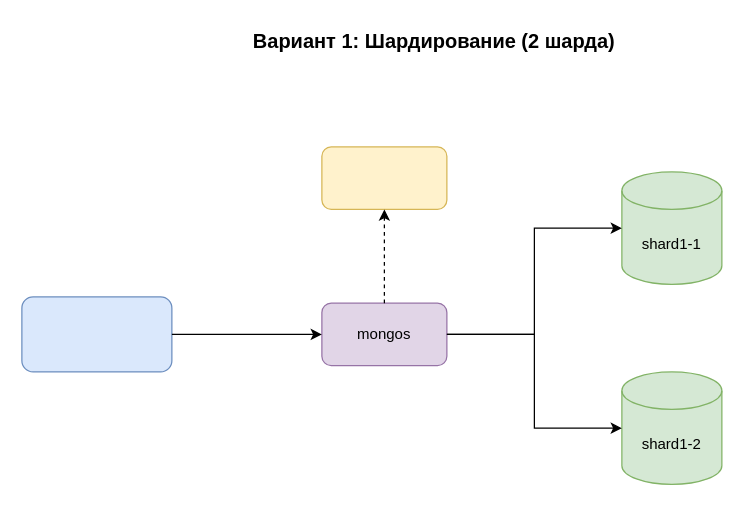
This 744x506 diagram has some shape labels left out. The shapes that lost their labels are listed below. From the top down, each one's centre as x and y in pixels, then its label:
At [384,177]: "configSrv".
At [96,334]: "pymongo-api".
